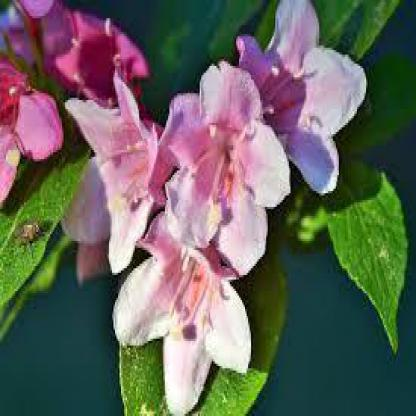Kupu-Kupu: (254, 216, 369, 325), (27, 210, 136, 312), (88, 282, 167, 360), (49, 114, 142, 178), (154, 49, 225, 119), (153, 232, 225, 297), (195, 288, 258, 354)
